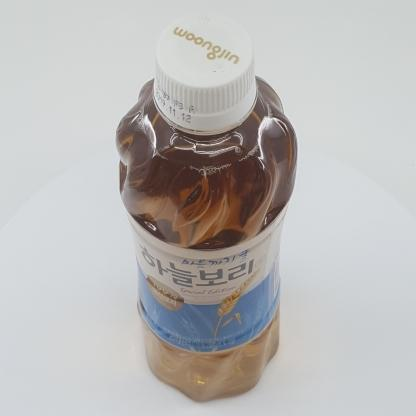------500ML: (115, 12, 298, 403)
